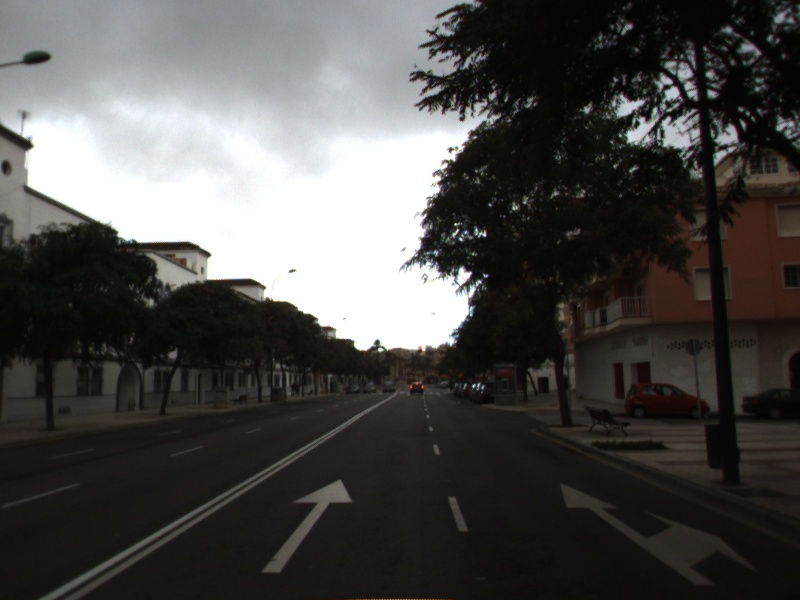STRAIGHT: (261, 477, 355, 575)
STRAIGHT_RIGHT: (559, 481, 760, 587)
